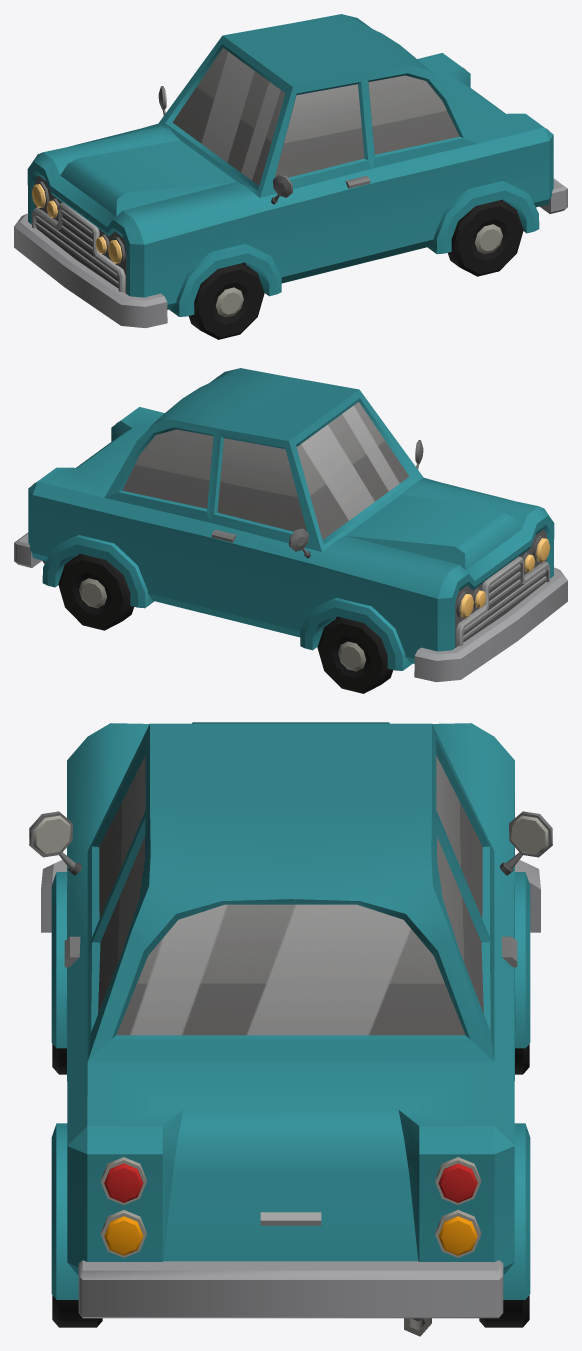
Rendered from Car_7_C.gltf.
3 renders of one model, top to bottom at view 1: azimuth 30°, elevation 25°; view 2: azimuth 150°, elevation 25°; view 3: azimuth 270°, elevation 25°, orthographic. The views are drawn at different scales.
Visible parts, largest first — view 1: Car_7_C, RL, FL; view 2: Car_7_C, RR, FR; view 3: Car_7_C, RL, RR.
Boxes of the visible parts, x1,y1,x2,y2 form: Car_7_C: (14, 14, 567, 328); RL: (448, 200, 523, 276); FL: (188, 263, 264, 339); Car_7_C: (14, 368, 567, 682); RR: (58, 554, 133, 630); FR: (317, 617, 393, 693); Car_7_C: (29, 722, 552, 1336); RL: (52, 1295, 102, 1327); RR: (479, 1295, 529, 1327).
Size of the model in its own units: 3.38 by 1.52 by 1.7.
3 materials, 3 textured.
